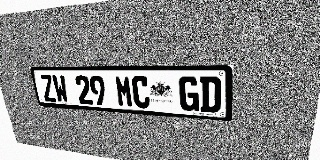2: (74, 75, 93, 105)
9: (89, 75, 108, 106)
C: (131, 76, 151, 109)
D: (200, 76, 221, 113)
G: (179, 76, 199, 112)
M: (114, 75, 134, 107)
W: (51, 75, 70, 103)
Z: (39, 75, 57, 102)
